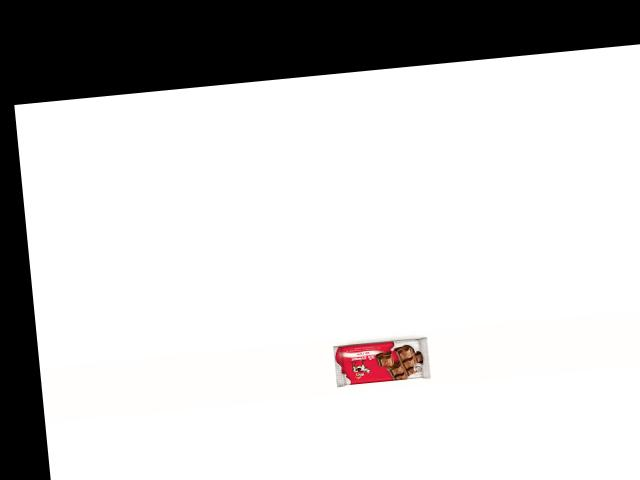chocolate: (315, 314, 431, 383)
